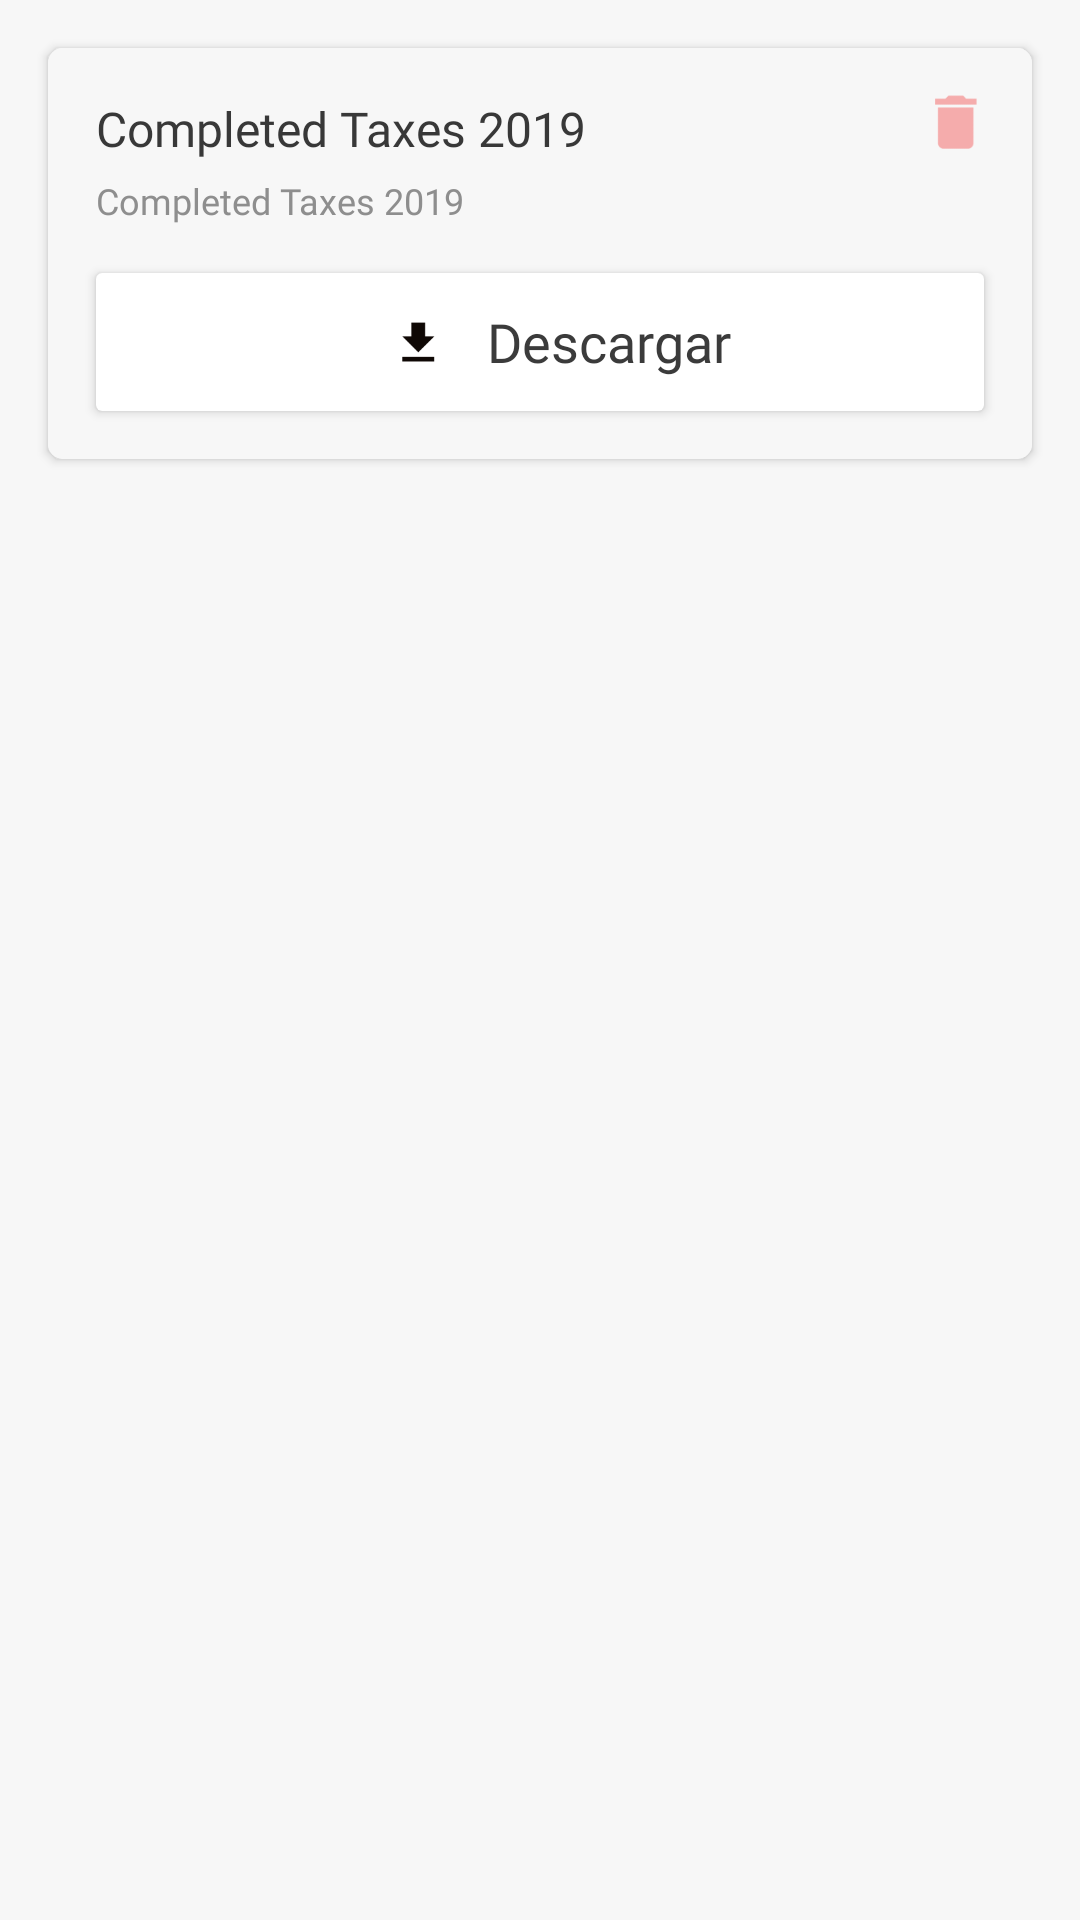

Screen size 1080 × 1920. Icon name, then its box in pixels as (x1, y1, x2, y2):
delete: (935, 95, 977, 149)
download: (402, 322, 435, 362)
